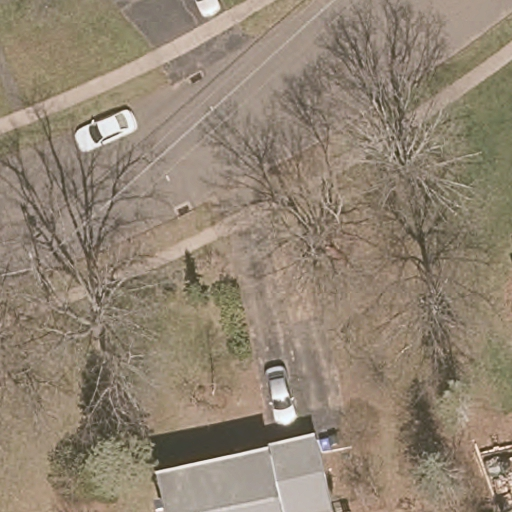DT: (25, 252, 58, 290)
